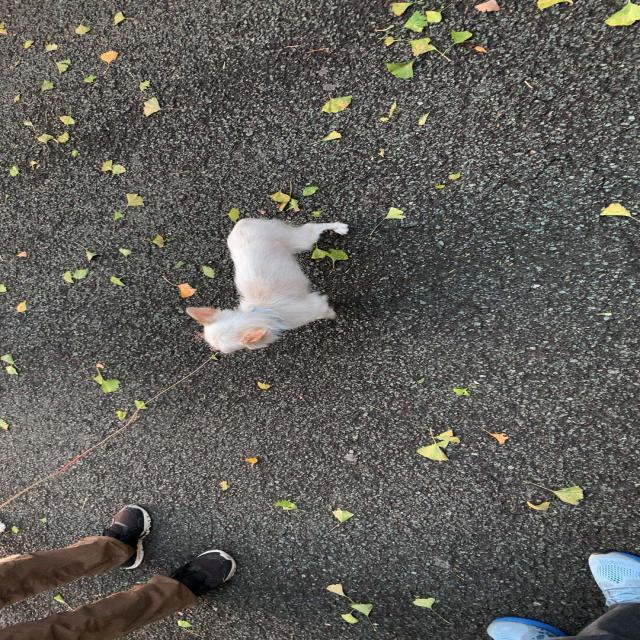Leashed_Dog: (0, 0, 253, 196)
